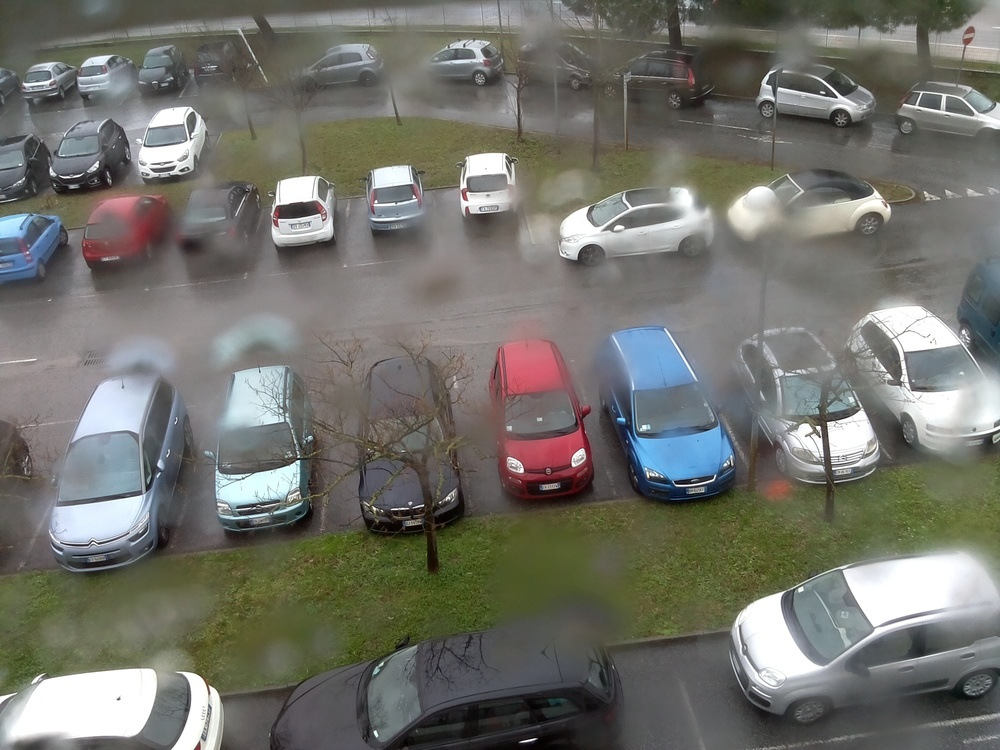Car: (729, 549, 1000, 724), (269, 621, 623, 750), (48, 372, 194, 571), (597, 326, 736, 502), (844, 305, 1000, 455), (735, 327, 881, 485), (358, 356, 464, 533), (206, 366, 316, 534), (0, 668, 224, 750), (488, 339, 594, 500), (726, 169, 891, 247), (559, 187, 714, 266), (756, 64, 876, 128), (599, 48, 713, 111), (896, 81, 1000, 148), (81, 194, 172, 269), (50, 118, 132, 194), (177, 181, 261, 254), (137, 107, 210, 183), (0, 213, 69, 284), (956, 257, 1000, 368), (271, 176, 337, 250), (516, 39, 602, 91), (291, 43, 383, 91), (365, 166, 425, 234), (457, 152, 517, 219), (422, 39, 504, 87), (0, 134, 52, 204), (0, 418, 35, 519), (77, 54, 136, 101), (138, 45, 189, 94), (22, 62, 77, 104), (193, 41, 244, 86), (0, 67, 20, 107)
